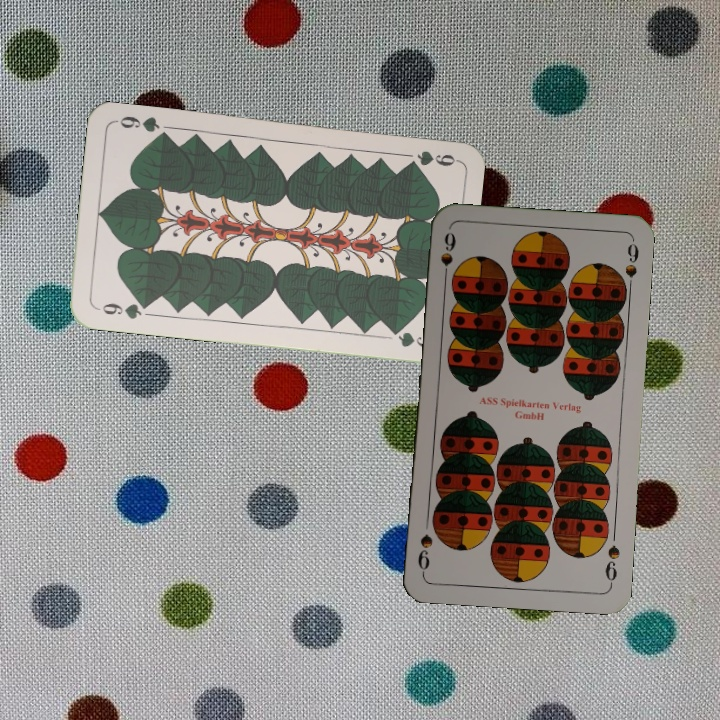G9: (93, 298, 153, 322), (404, 146, 459, 169)
S9: (437, 228, 458, 287), (601, 541, 623, 588)
